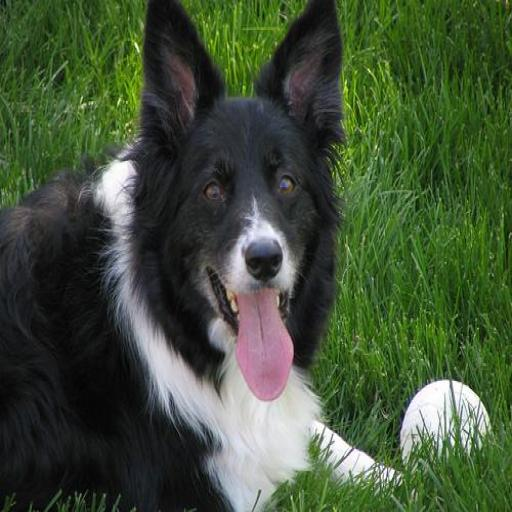dog_face: (132, 4, 354, 378)
